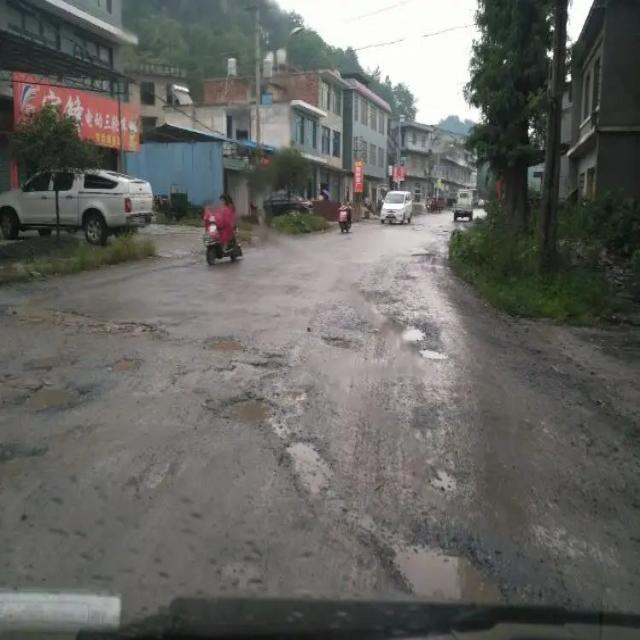pothole: (380, 524, 509, 604), (35, 309, 162, 338), (283, 439, 336, 501), (16, 380, 90, 412), (221, 395, 276, 427), (431, 464, 463, 496), (26, 354, 82, 372), (201, 335, 247, 353), (402, 320, 430, 346), (320, 330, 358, 348), (103, 354, 139, 371)
